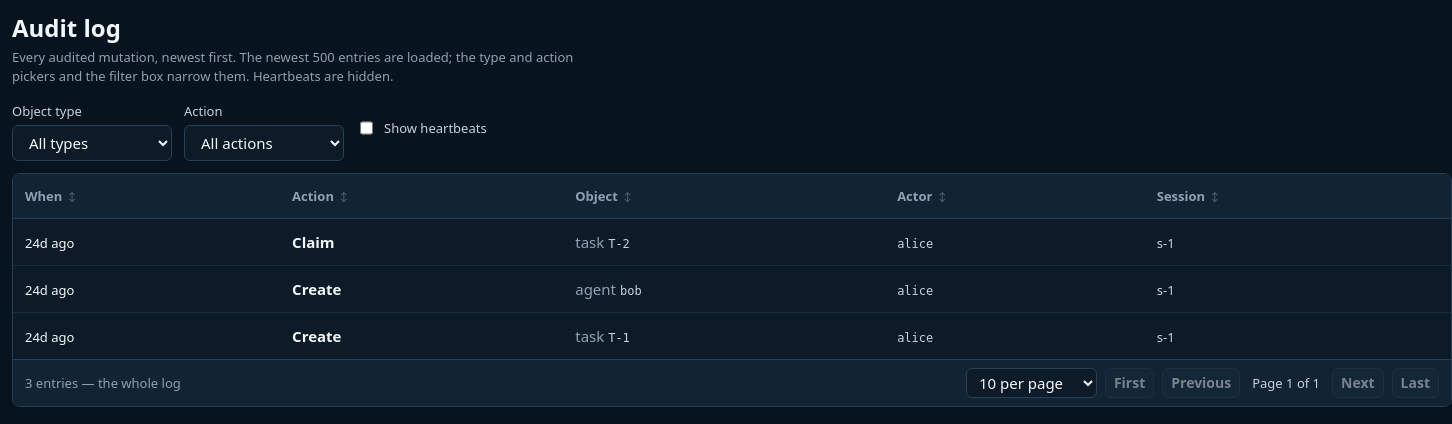
Scenario: AuditView › hides heartbeats by default, in the request, and says so
The width and height of the screenshot is (1452, 424).
Expected: the text "T-2" is shown, [608,237,630,251]
Expected: the text "Heartbeats are hidden." is shown, [250,67,394,85]
Step 1. Click the checkbox labelled "Show heartbeats" → [366, 128], box [360,110,373,146]
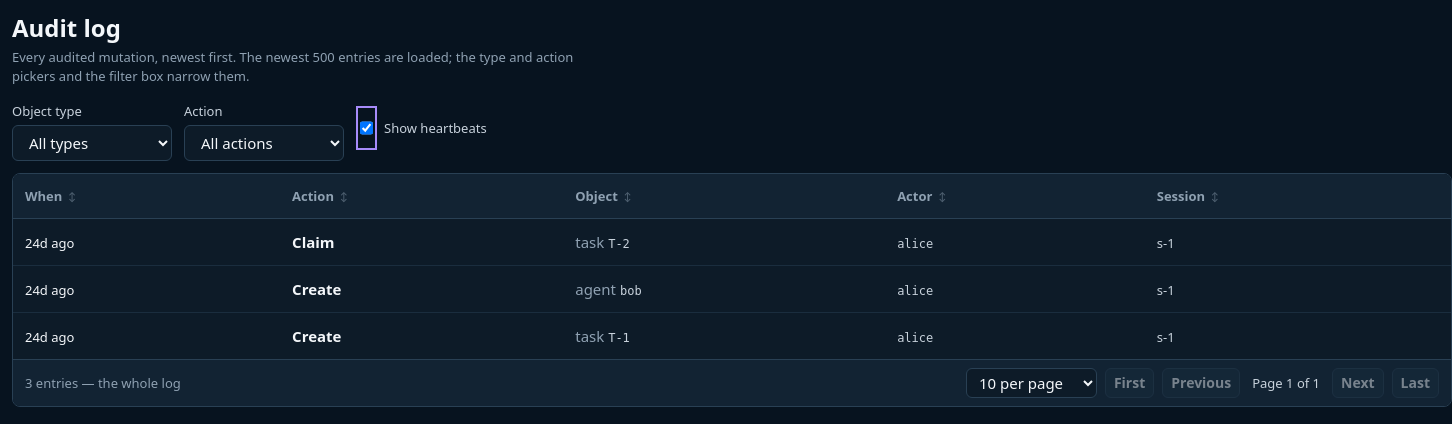
Now the text "Heartbeats are hidden." is gone
